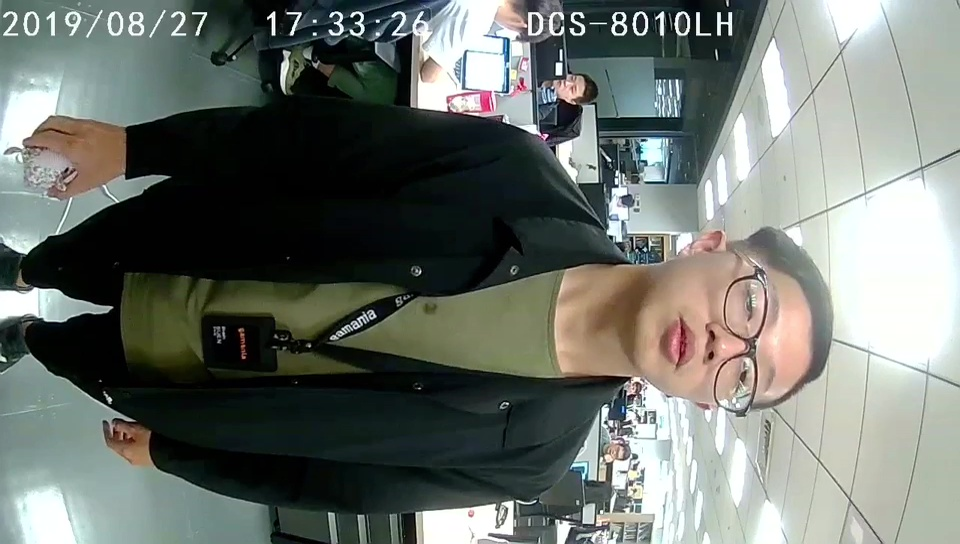pig: (23, 148, 76, 192)
